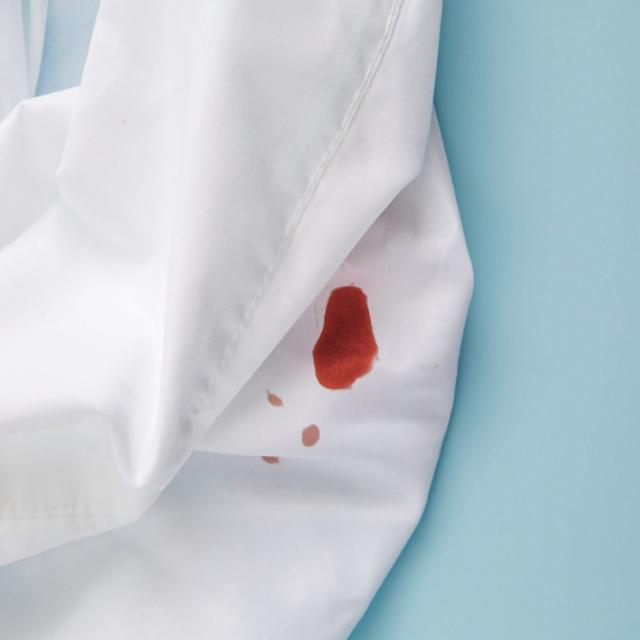blood: (305, 279, 383, 389), (256, 387, 325, 469)
